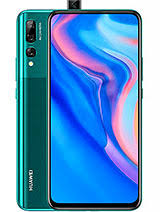huawei: (13, 5, 144, 209)
